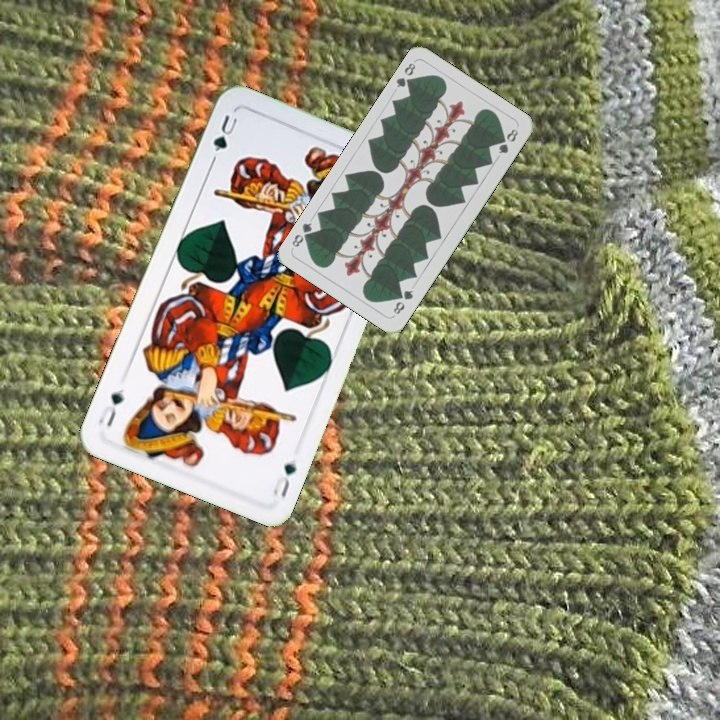G8: (392, 57, 418, 91), (389, 286, 416, 318)
GU: (207, 111, 240, 164), (269, 455, 299, 500)
